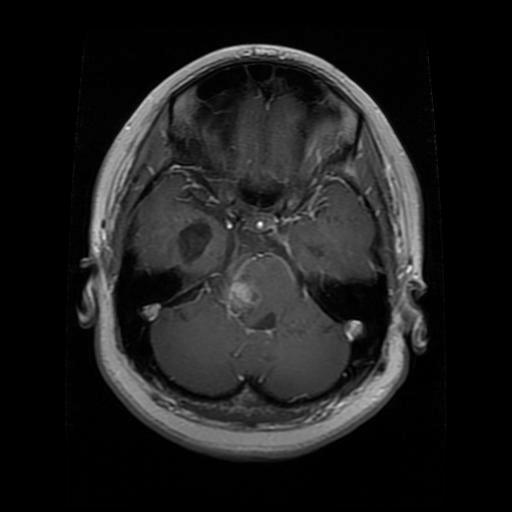Tumour-Glioma: (167, 216, 221, 271)
